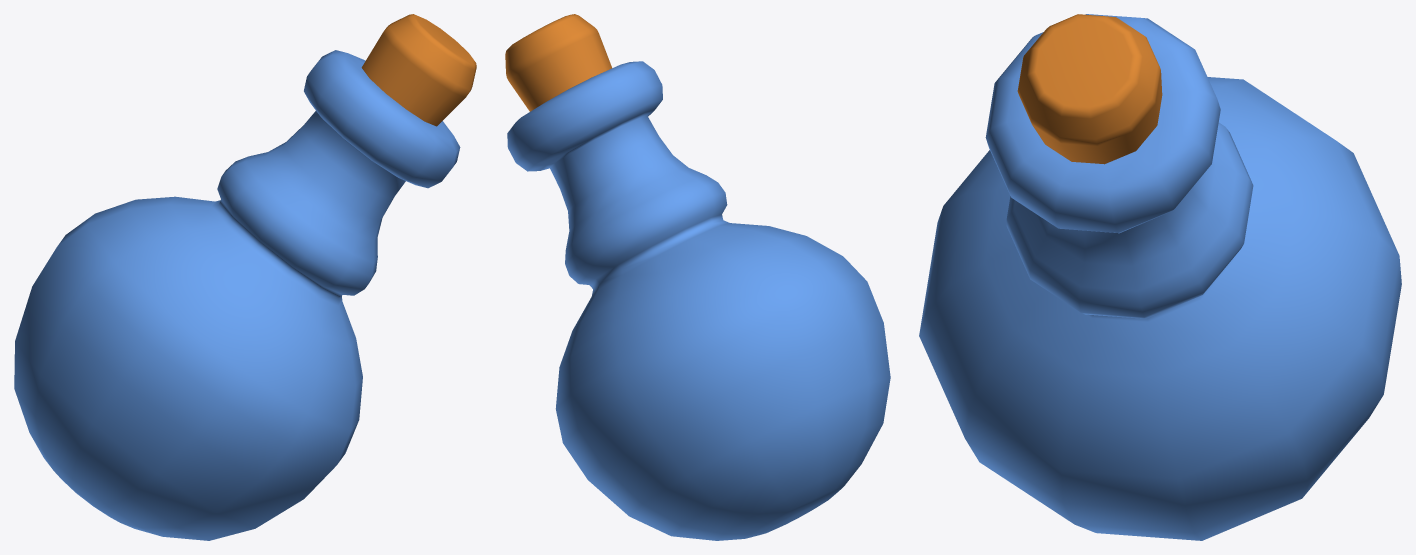
The picture shows the model from 3 angles, left to right: view 1: azimuth 30°, elevation 25°; view 2: azimuth 150°, elevation 25°; view 3: azimuth 270°, elevation 25°; orthographic projection. The views are drawn at different scales.
Parts seen in each view (by area): view 1: model_1.122; view 2: model_1.122; view 3: model_1.122.
Part boxes in pixels (x1,y1,x2,y2): model_1.122: (14,14,476,540); model_1.122: (505,14,890,540); model_1.122: (919,14,1401,540).
Size of the model in its own units: 3.88 by 4.32 by 3.01.
